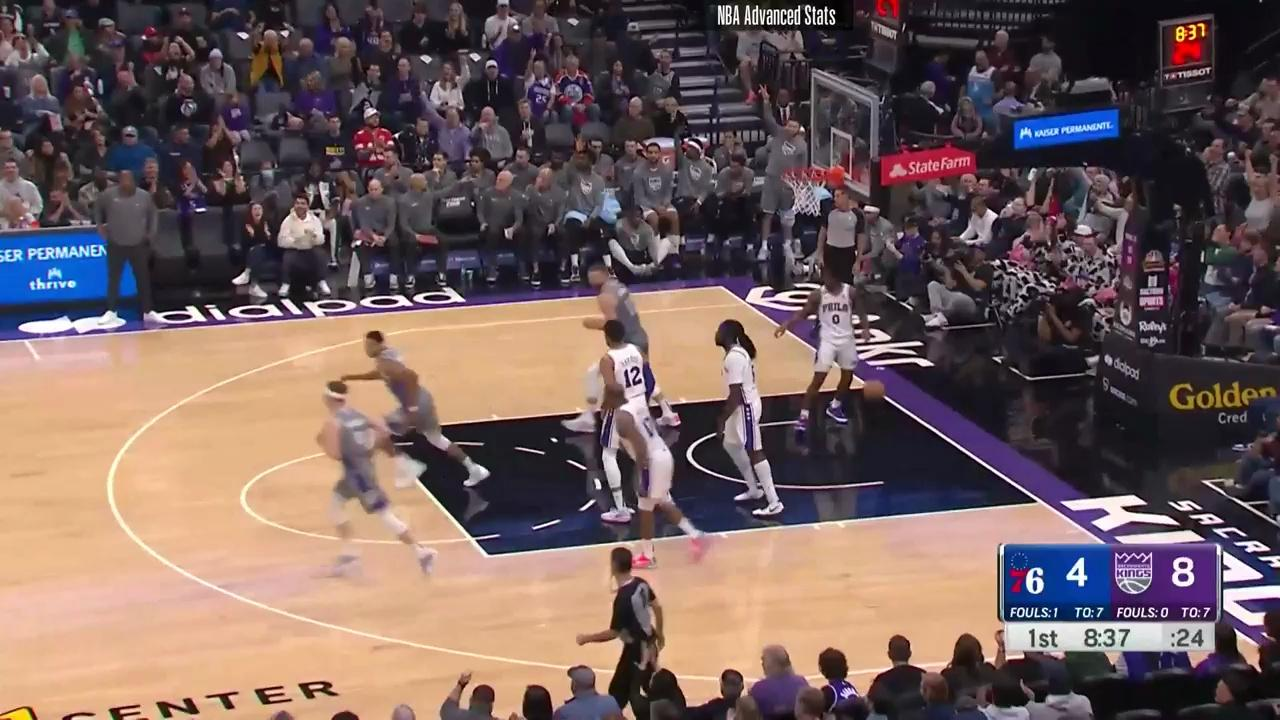Backboard: (807, 74, 880, 201)
Ball: (862, 378, 885, 404)
Basket: (786, 166, 835, 220)
Person: (310, 377, 424, 575), (359, 326, 480, 482), (609, 387, 703, 566), (706, 313, 783, 522), (594, 319, 660, 521), (793, 277, 871, 433), (587, 256, 660, 363)
Referee: (576, 545, 677, 704), (816, 191, 864, 304)
Shot Clock: (1156, 14, 1222, 117), (861, 0, 904, 80)
